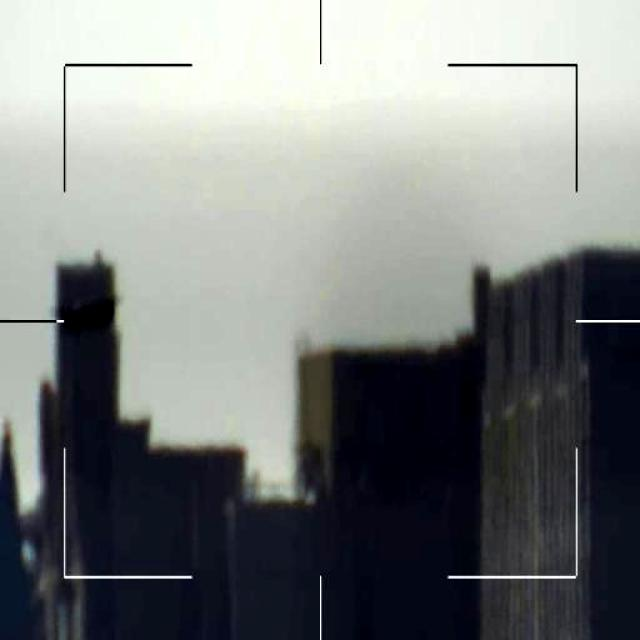bird: (61, 298, 125, 341)
